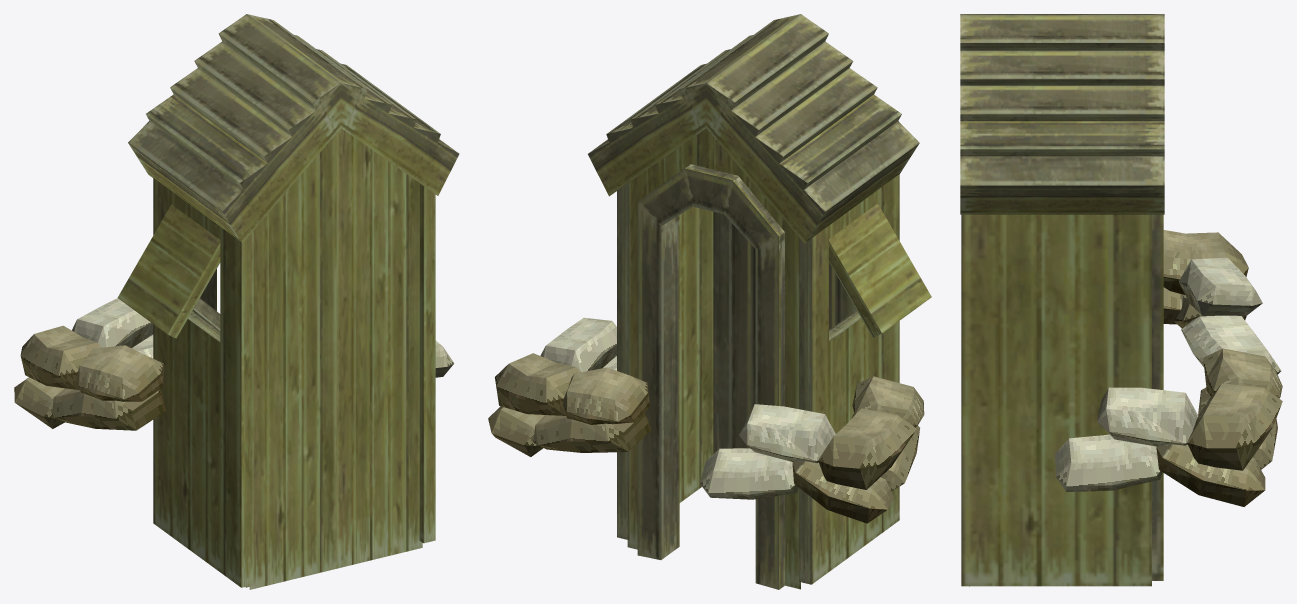
The model's file is C1SMSEBTRYBOXH2.obj.
3 views of the same model, side by side, from view 1: azimuth 30°, elevation 25°; view 2: azimuth 150°, elevation 25°; view 3: azimuth 270°, elevation 25° (orthographic). The views are drawn at different scales.
Visible parts, largest first — view 1: Node 0; view 2: Node 0; view 3: Node 0.
Boxes of the visible parts, x1,y1,x2,y2 form: Node 0: (14, 14, 459, 589); Node 0: (488, 14, 931, 589); Node 0: (960, 14, 1282, 586).
Size of the model in its own units: 4.14 by 5 by 2.76.
3 materials, 3 textured.
